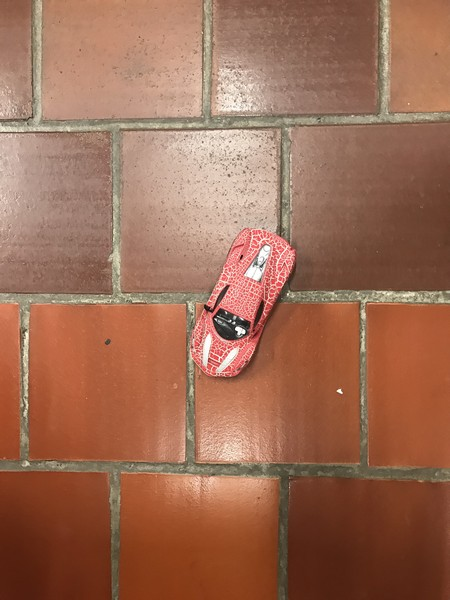RC: (189, 226, 298, 381)
